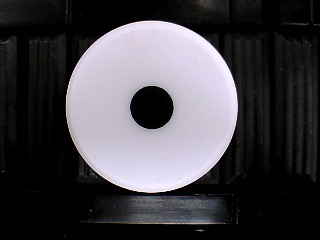BOHO: (65, 20, 239, 193)
